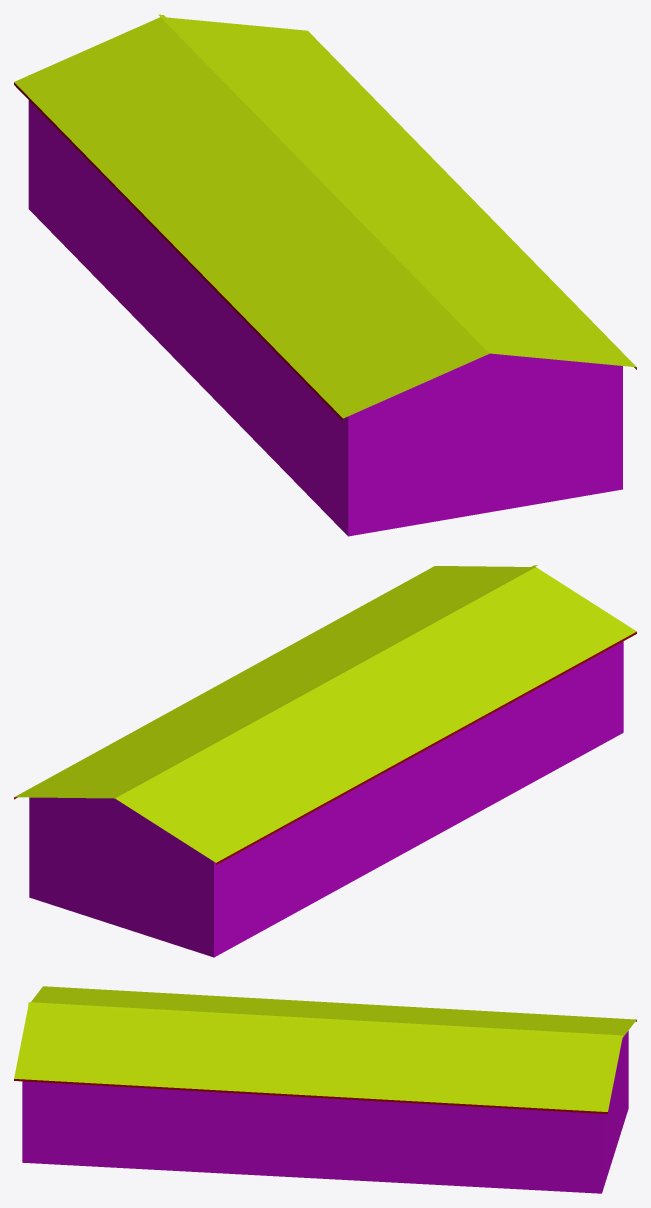
The model's file is rmc_15.glb.
3 views of the same model, one above another, from view 1: azimuth 30°, elevation 25°; view 2: azimuth 150°, elevation 25°; view 3: azimuth 270°, elevation 25° (orthographic). The views are drawn at different scales.
Visible parts, largest first — view 1: rmc_15; view 2: rmc_15; view 3: rmc_15.
Boxes of the visible parts, <box> form: rmc_15: <box>14,14,636,536</box>; rmc_15: <box>14,565,636,957</box>; rmc_15: <box>14,986,636,1193</box>.
Bounding box in the file's own units: 15.84 × 6.81 × 33.13.
